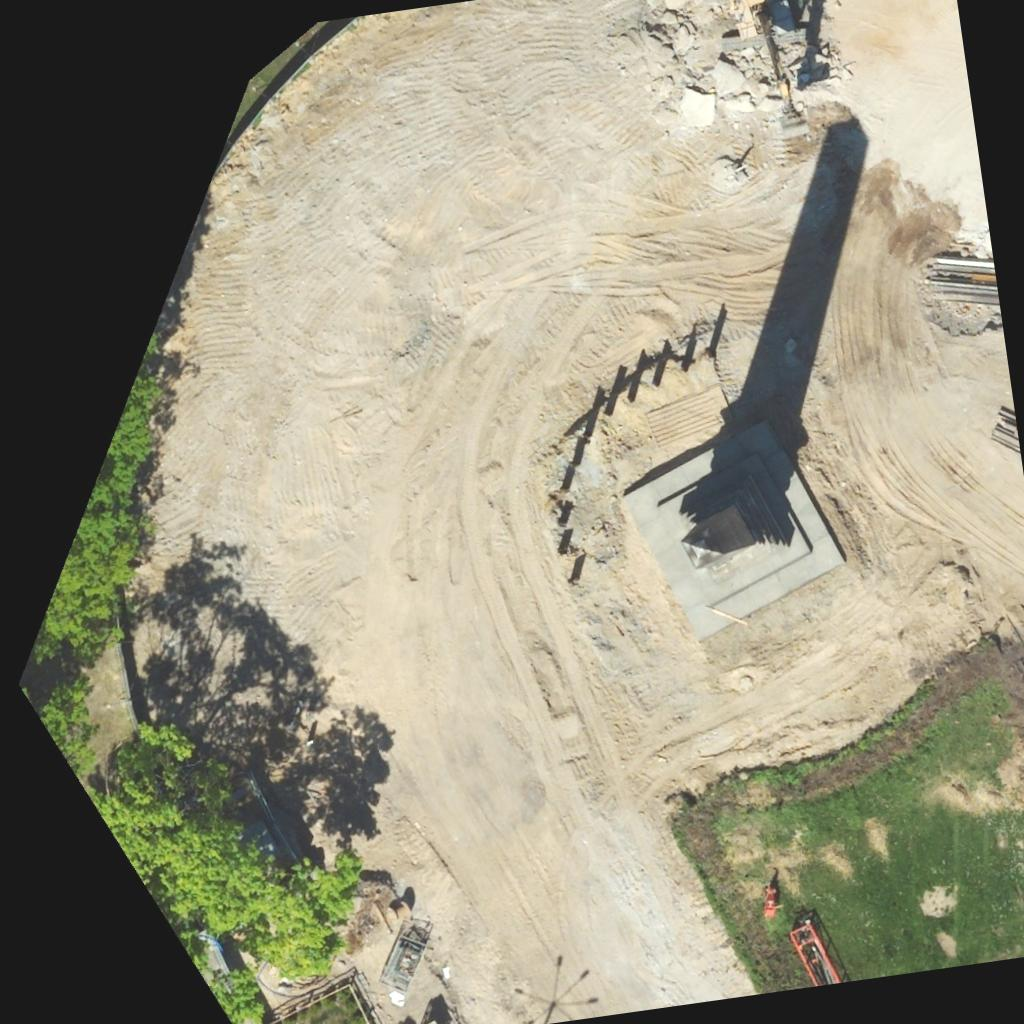koparka: (712, 0, 819, 142)
